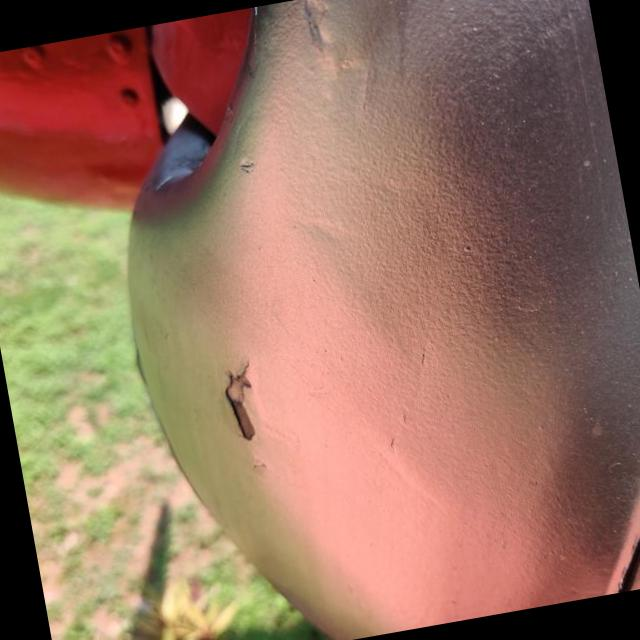Paint-off: (223, 362, 255, 440)
